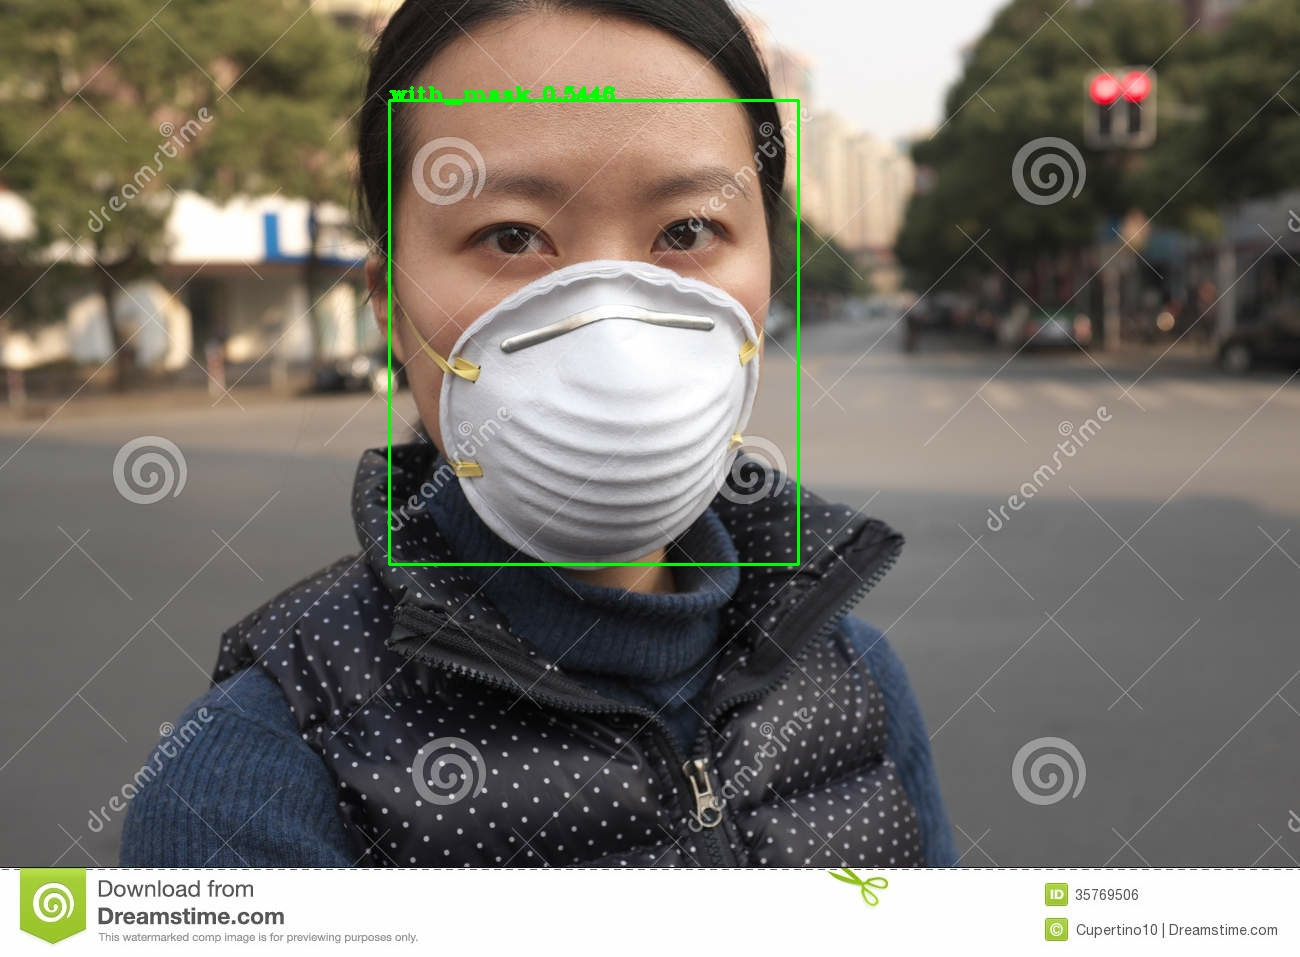with_mask: (361, 45, 783, 576)
